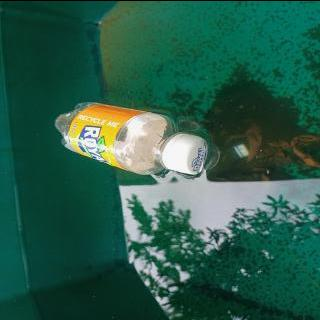bottle: (50, 98, 212, 178)
